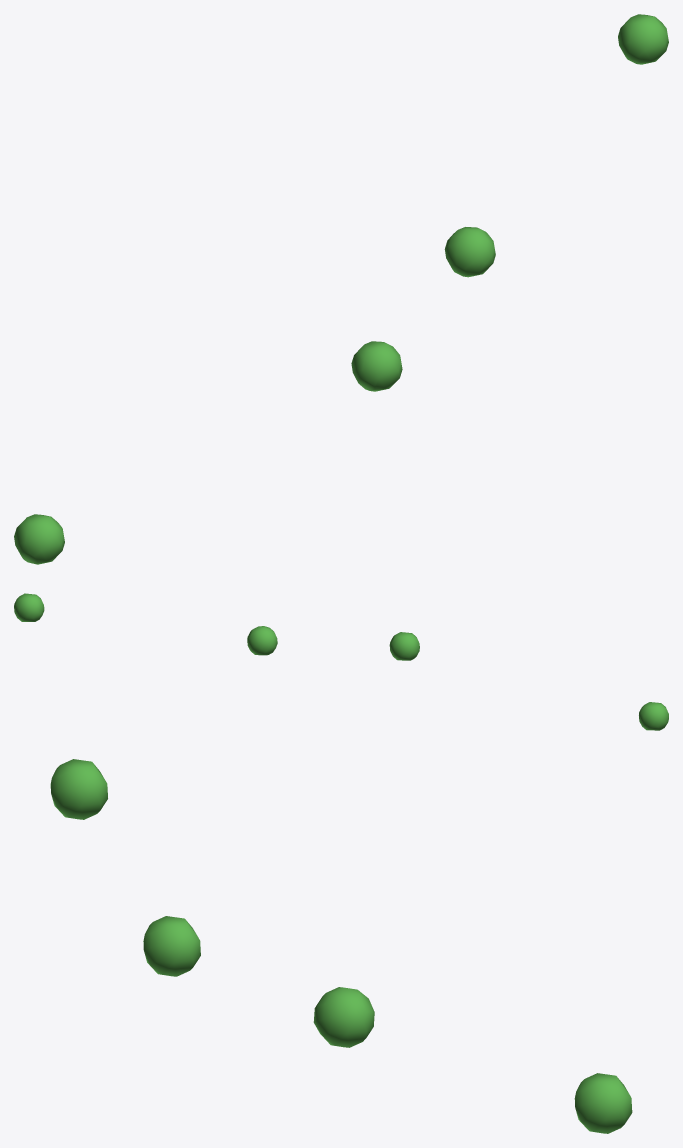
File: linfatico-superior-pancreatic-nodes.glb
3 views of the same model, one above another, from view 1: azimuth 30°, elevation 25°; view 2: azimuth 150°, elevation 25°; view 3: azimuth 270°, elevation 25° (orthographic). The views are drawn at different scales.
Parts seen in each view (by area): view 1: Superior pancreatic nodes; view 2: Superior pancreatic nodes; view 3: Superior pancreatic nodes.
Part boxes in pixels (left/top/right/bottom): Superior pancreatic nodes: left=14, top=14, right=668, bottom=564; Superior pancreatic nodes: left=14, top=593, right=668, bottom=730; Superior pancreatic nodes: left=50, top=759, right=632, bottom=1133.
Bounding box in the file's own units: 0.0504 × 0.0102 × 0.0244.
